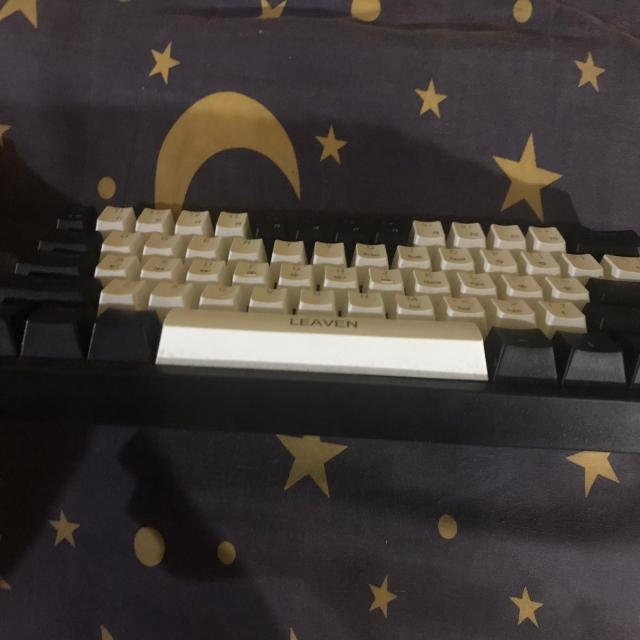-mouse-: (0, 204, 640, 453)
